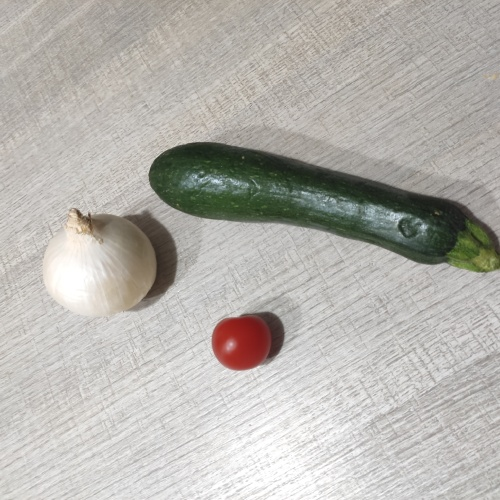cipolla: (43, 210, 165, 320)
pomodoro: (213, 314, 275, 367)
zucchine: (149, 141, 495, 279)
